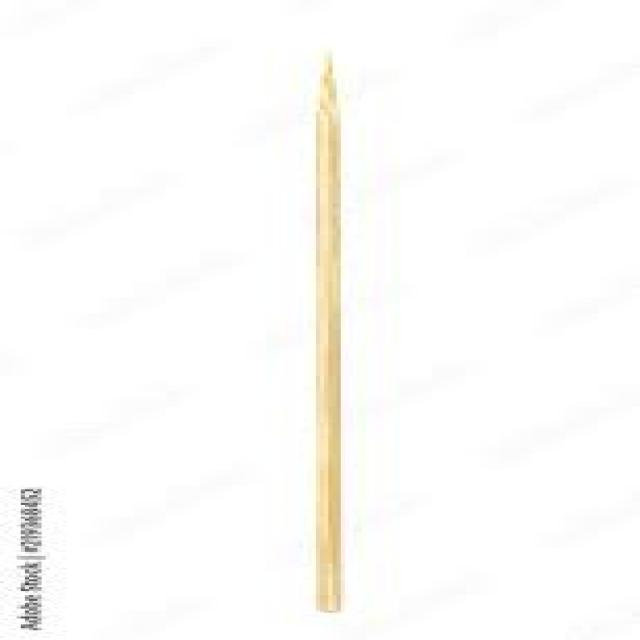stick: (316, 52, 342, 612)
